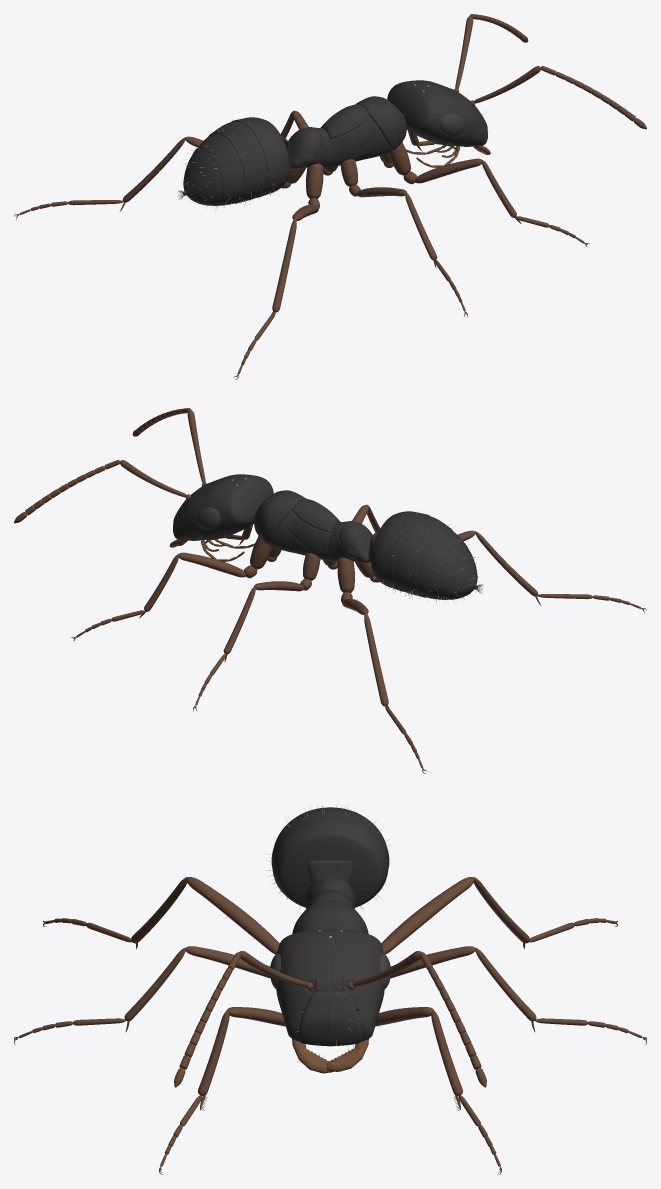
Rendered from formica.glb.
The picture shows the model from 3 angles, top to bottom: view 1: azimuth 30°, elevation 25°; view 2: azimuth 150°, elevation 25°; view 3: azimuth 270°, elevation 25°; orthographic projection. The views are drawn at different scales.
Parts seen in each view (by area): view 1: x-head-capsule, mesosoma, gaster-IV, gaster-III, gaster-V, hl-pronotum, gaster-VI, hl-propodeum, hl-mesonotum, funiculus_R, x-tibia-hind_R, x-femur-fore_R (+3 smaller); view 2: x-head-capsule, mesosoma, gaster-IV, gaster-III, gaster-V, hl-pronotum, gaster-VI, hl-propodeum, hl-mesonotum, funiculus_L, x-tibia-hind_L, x-femur-fore_L (+3 smaller); view 3: x-head-capsule, gaster-III, clypeus, hl-pronotum, x-femur-hind_R, x-femur-hind_L, funiculus_L, funiculus_R, petiole, x-tibia-fore_L, x-tibia-fore_R, x-femur-mid_L (+14 smaller).
Part boxes in pixels (x1,y1,x2,y2): x-head-capsule: (387, 80, 487, 146); mesosoma: (298, 115, 392, 168); gaster-IV: (208, 121, 267, 203); gaster-III: (231, 117, 289, 197); gaster-V: (192, 133, 244, 205); hl-pronotum: (356, 96, 406, 150); gaster-VI: (184, 149, 223, 205); hl-propodeum: (288, 127, 322, 168); hl-mesonotum: (321, 104, 368, 138); funiculus_R: (540, 66, 646, 129); x-tibia-hind_R: (272, 217, 296, 312); x-femur-fore_R: (414, 158, 482, 183); x-head-capsule: (173, 474, 273, 540); mesosoma: (268, 509, 362, 562); gaster-IV: (393, 515, 452, 597); gaster-III: (371, 511, 429, 591); gaster-V: (416, 527, 468, 599); hl-pronotum: (254, 490, 304, 544); gaster-VI: (437, 543, 476, 599); hl-propodeum: (338, 521, 372, 562); hl-mesonotum: (292, 498, 339, 532); funiculus_L: (14, 460, 120, 523); x-tibia-hind_L: (364, 611, 388, 706); x-femur-fore_L: (178, 552, 246, 577); x-head-capsule: (276, 929, 384, 1041); gaster-III: (271, 812, 389, 907); clypeus: (298, 991, 362, 1045); hl-pronotum: (292, 900, 368, 933); x-femur-hind_R: (186, 877, 279, 954); x-femur-hind_L: (381, 877, 474, 954); funiculus_L: (419, 952, 486, 1087); funiculus_R: (174, 952, 241, 1087); petiole: (308, 860, 352, 884); x-tibia-fore_L: (431, 1010, 462, 1095); x-tibia-fore_R: (198, 1010, 229, 1095); x-femur-mid_L: (390, 946, 475, 978).
Size of the model in its own units: 7.73 by 2.65 by 7.01.
